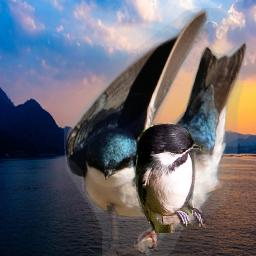Swallow: (64, 8, 249, 256), (133, 120, 208, 233)
